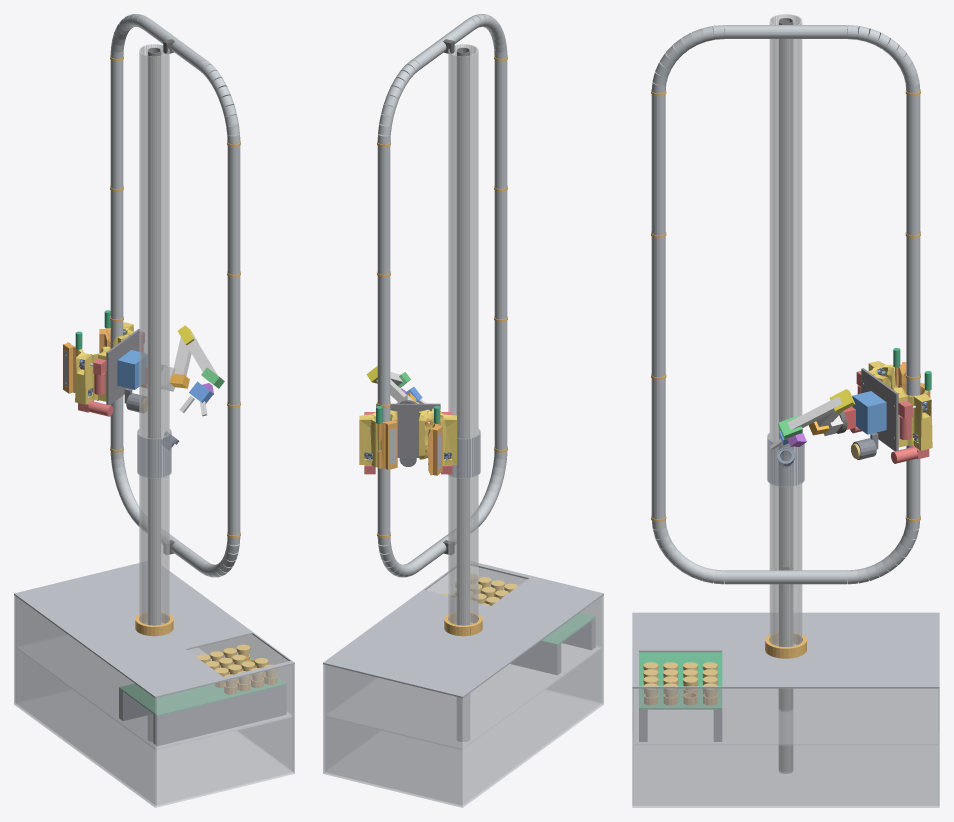
Rendered from transplant-seedling-step3-plug-v10.glb.
The picture shows the model from 3 angles, left to right: view 1: azimuth 30°, elevation 25°; view 2: azimuth 150°, elevation 25°; view 3: azimuth 270°, elevation 25°; orthographic projection. The views are drawn at different scales.
Size of the model in its own units: 0.4 by 1.9 by 0.7.
